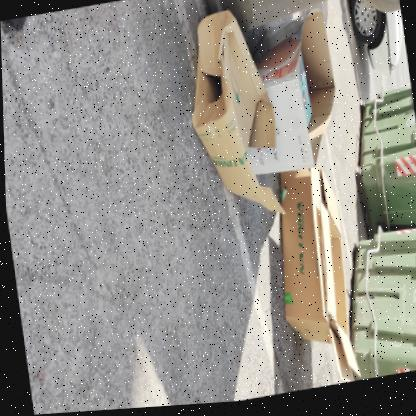Paper: (189, 12, 283, 217), (278, 170, 351, 387), (245, 12, 333, 177), (317, 204, 356, 380), (297, 54, 310, 131)
